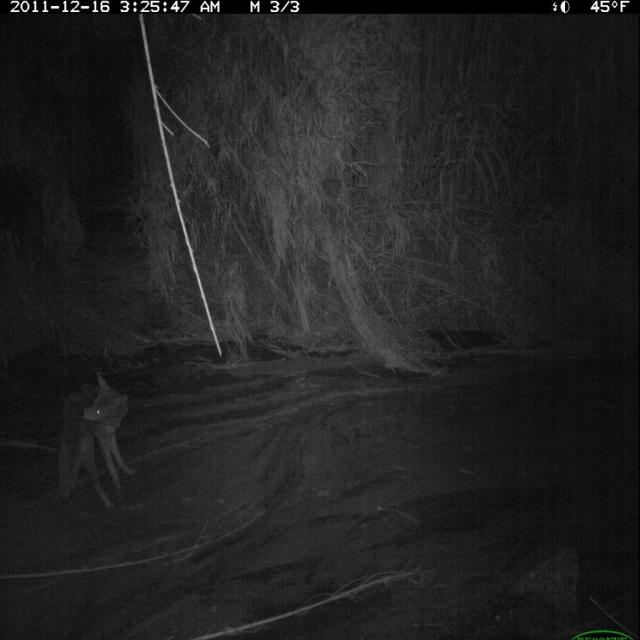coyote: (53, 366, 141, 524)
